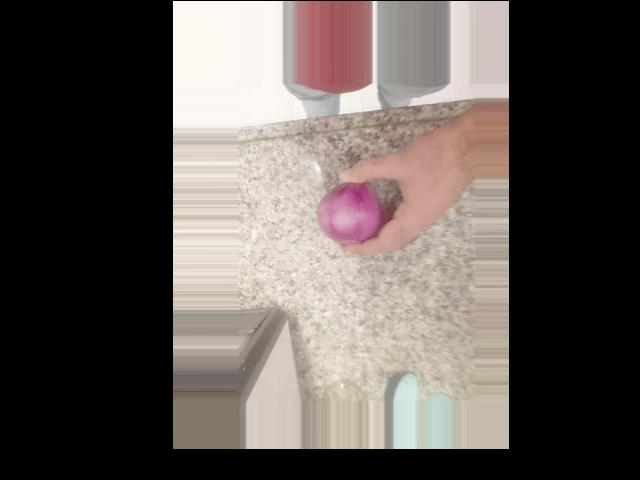onion: (313, 160, 375, 254)
